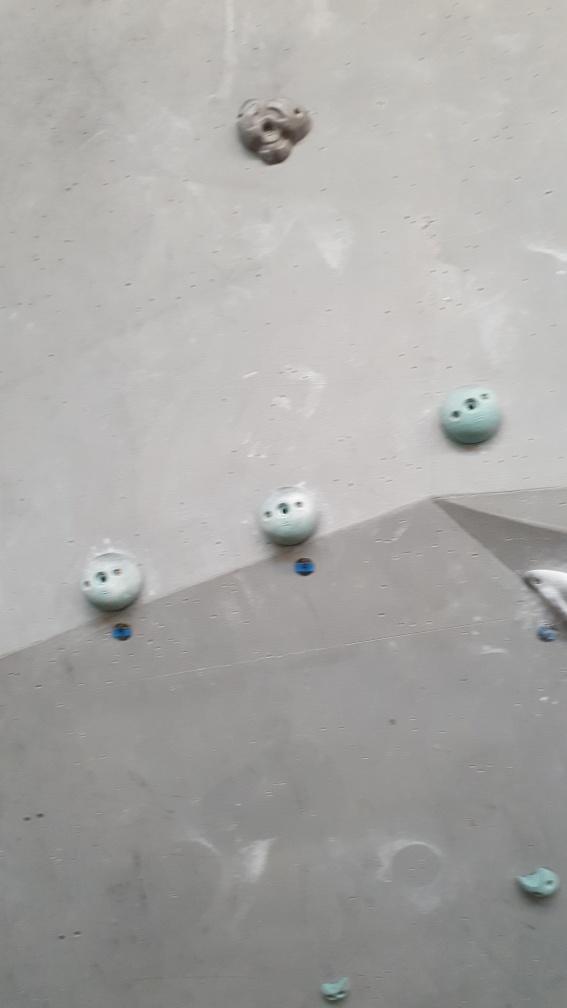Hand Start: (288, 552, 321, 581), (110, 619, 138, 645)
Jug: (236, 96, 320, 164)
Sloper: (439, 382, 508, 453), (79, 548, 151, 616), (256, 481, 323, 551)
